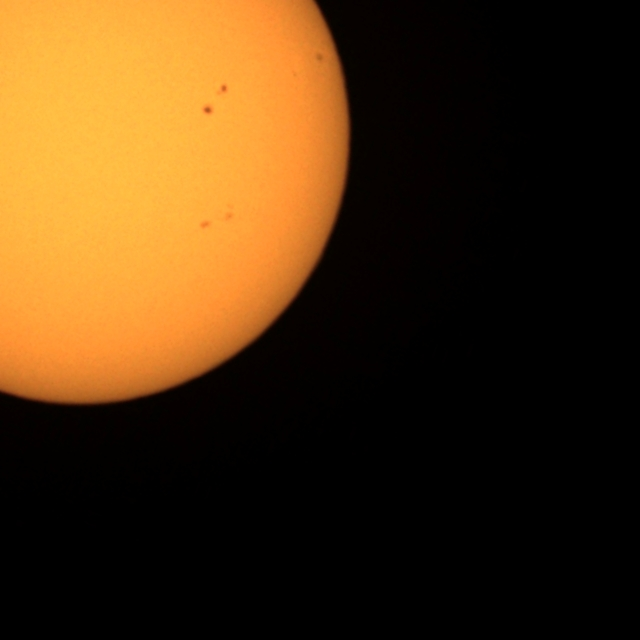sunspot: (198, 205, 235, 232), (222, 207, 236, 224), (201, 104, 214, 117), (198, 219, 212, 231), (314, 51, 326, 65), (217, 83, 229, 96)
